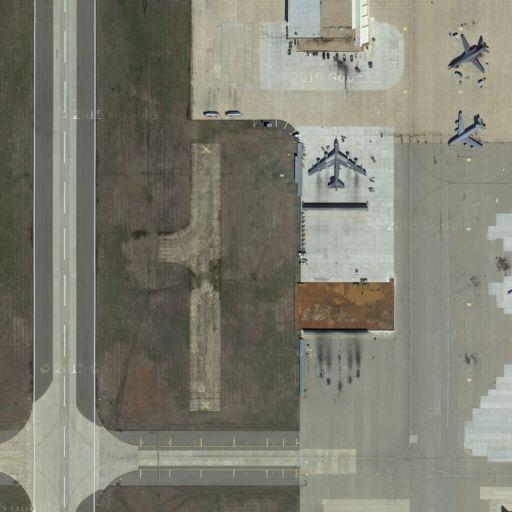B-1B: (449, 30, 490, 77)
B-52: (306, 132, 370, 193)
KC-135: (445, 107, 488, 152)
